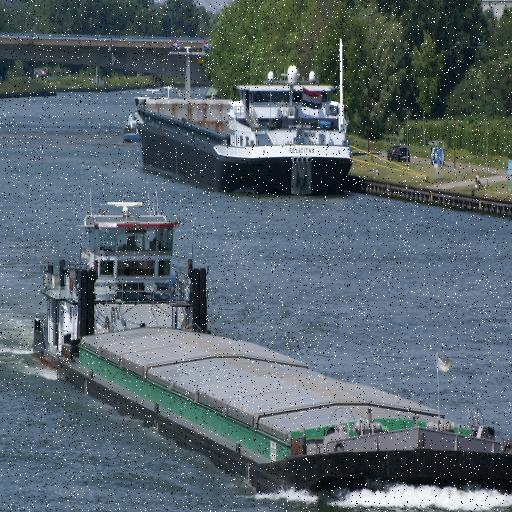tugboat: (32, 197, 218, 393)
